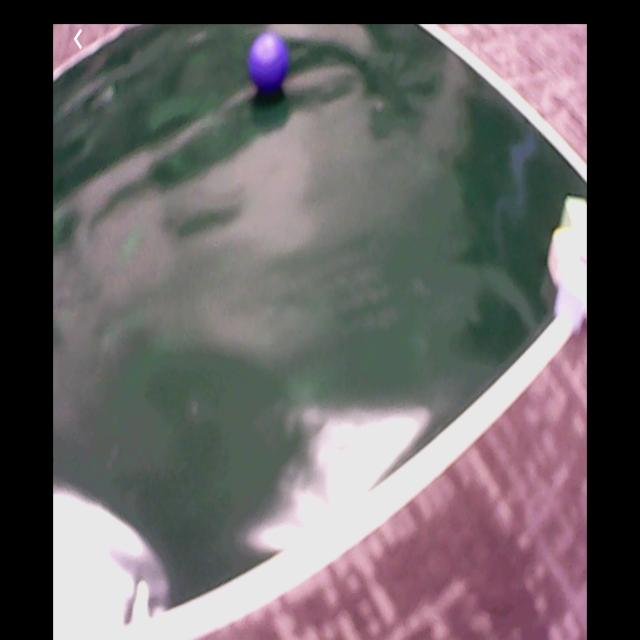ball: (246, 38, 289, 91)
